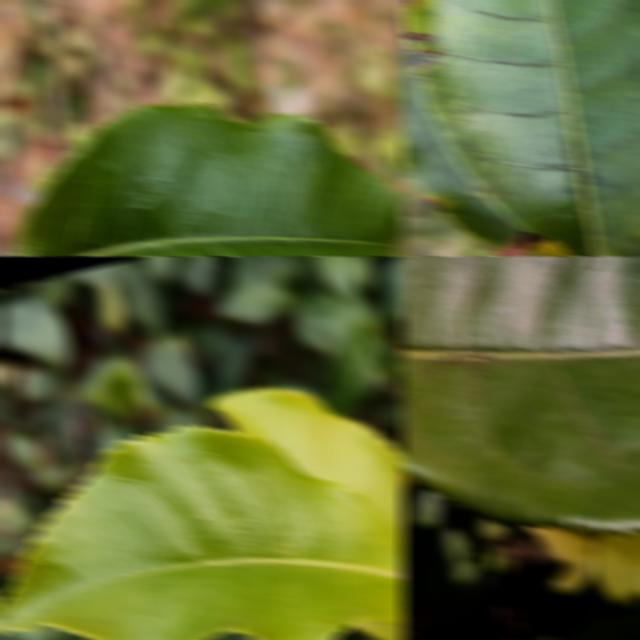Leaf: (0, 426, 406, 640), (400, 256, 640, 532), (9, 102, 406, 256), (402, 0, 640, 256), (208, 386, 406, 542), (400, 27, 524, 245), (324, 326, 381, 414), (139, 339, 202, 404), (592, 530, 640, 609), (216, 278, 296, 323), (488, 231, 574, 256), (311, 256, 359, 298), (382, 256, 406, 315), (352, 620, 406, 640)
